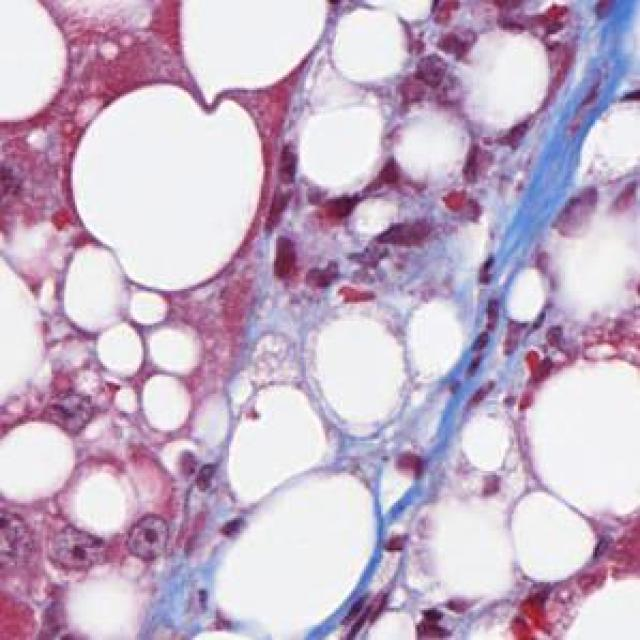inflammation: (253, 184, 392, 308)
